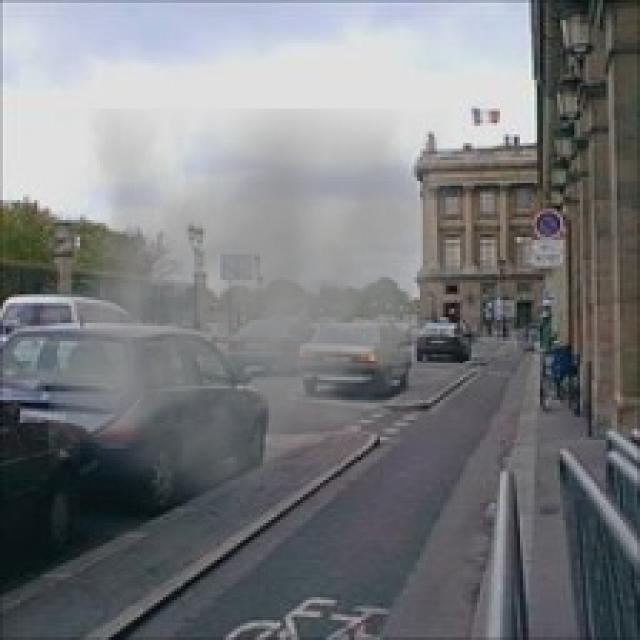smoke: (49, 108, 452, 523)
